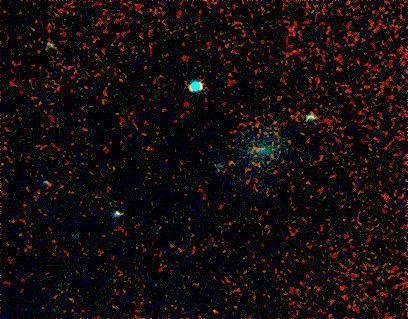star: (218, 146, 248, 176)
